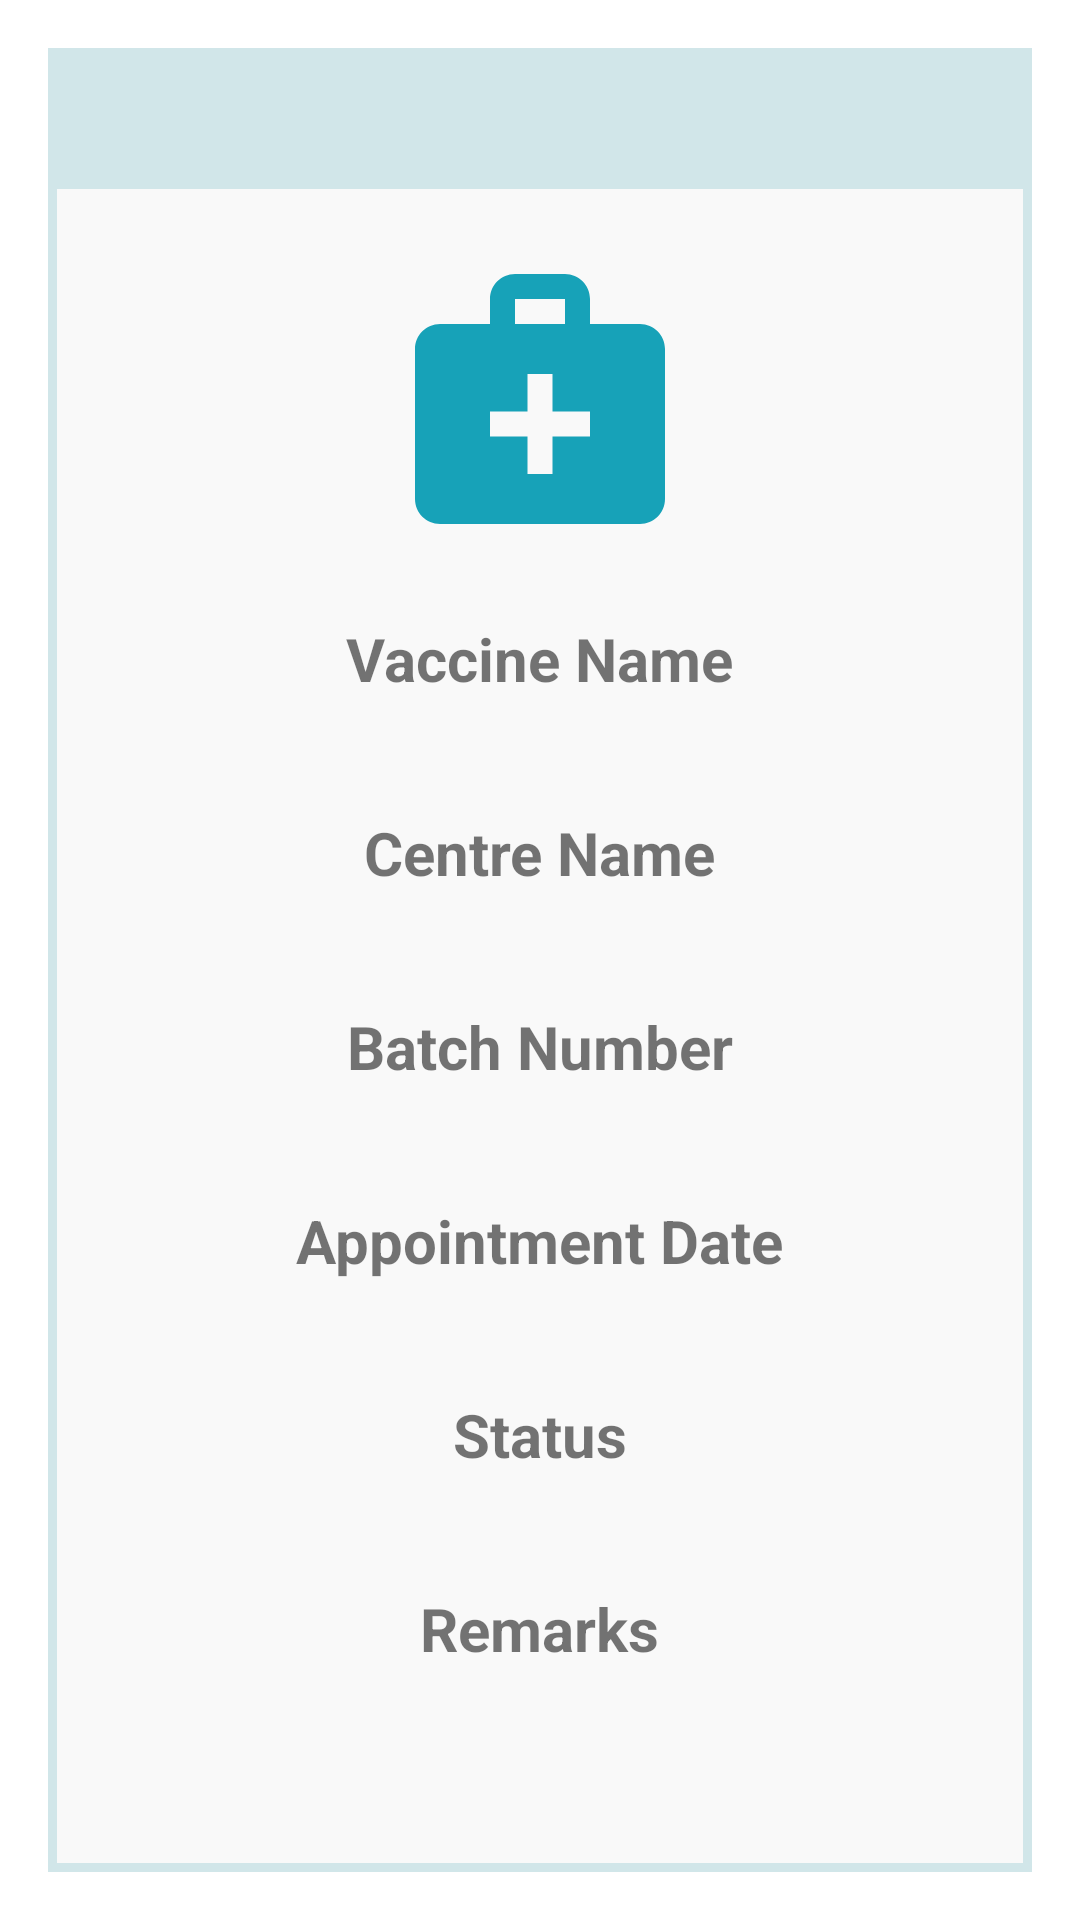

Icon click points for this 1080 × 1920 phone screenshot, format (x,y):
medical: (540,399)
